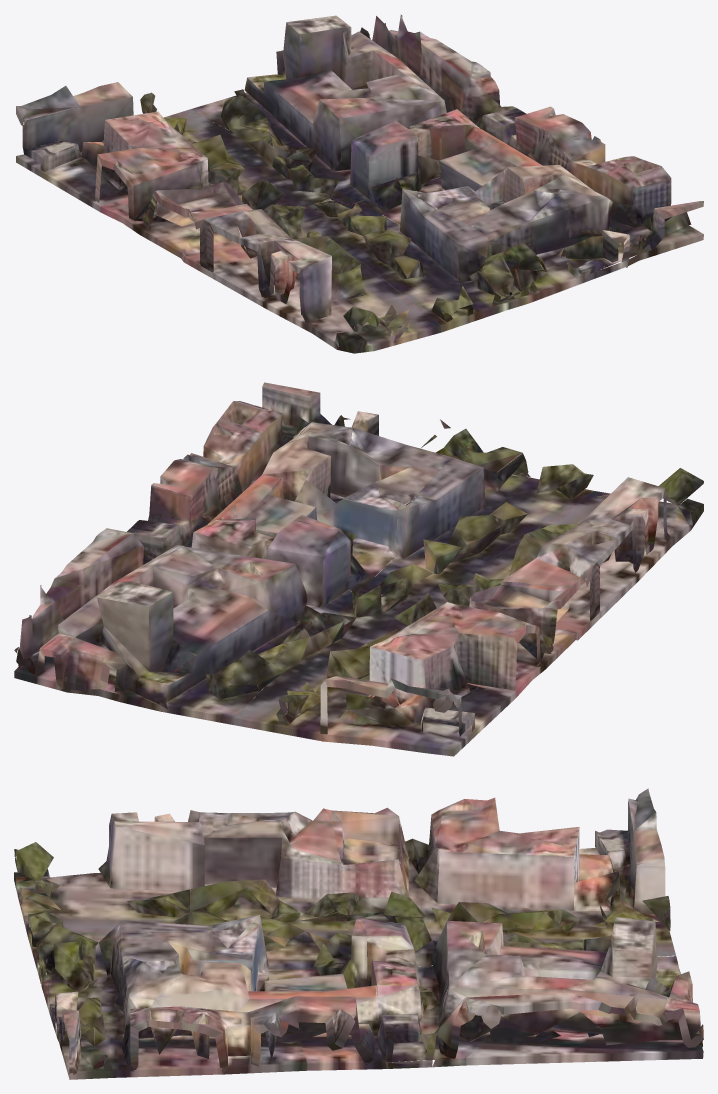
3 renders of one model, top to bottom at view 1: azimuth 30°, elevation 25°; view 2: azimuth 150°, elevation 25°; view 3: azimuth 270°, elevation 25°, orthographic. The views are drawn at different scales.
Parts seen in each view (by area): view 1: Mesh_0; view 2: Mesh_0; view 3: Mesh_0.
Boxes of the visible parts, bbox=[...] form: Mesh_0: bbox=[16, 14, 703, 353]; Mesh_0: bbox=[14, 382, 703, 756]; Mesh_0: bbox=[14, 788, 703, 1079].
Size of the model in its own units: 267 by 48.02 by 330.
2 materials, 2 textured.
